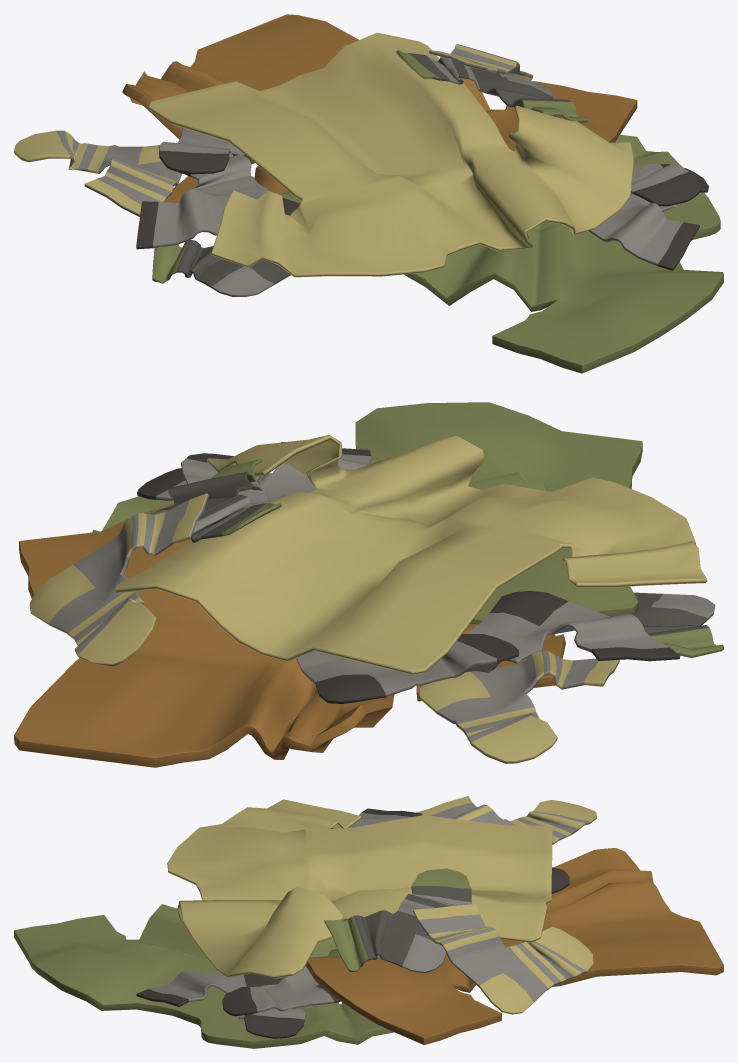
File: ClothesPile_A.fbx
3 renders of one model, top to bottom at view 1: azimuth 30°, elevation 25°; view 2: azimuth 150°, elevation 25°; view 3: azimuth 270°, elevation 25°, orthographic. The views are drawn at different scales.
Visible parts, largest first — view 1: ClothesPile_A; view 2: ClothesPile_A; view 3: ClothesPile_A.
Boxes of the visible parts, x1,y1,x2,y2 form: ClothesPile_A: (14,14,723,373); ClothesPile_A: (14,402,723,767); ClothesPile_A: (14,796,723,1048).
Size of the model in its own units: 0.7799 by 0.1734 by 1.03.
